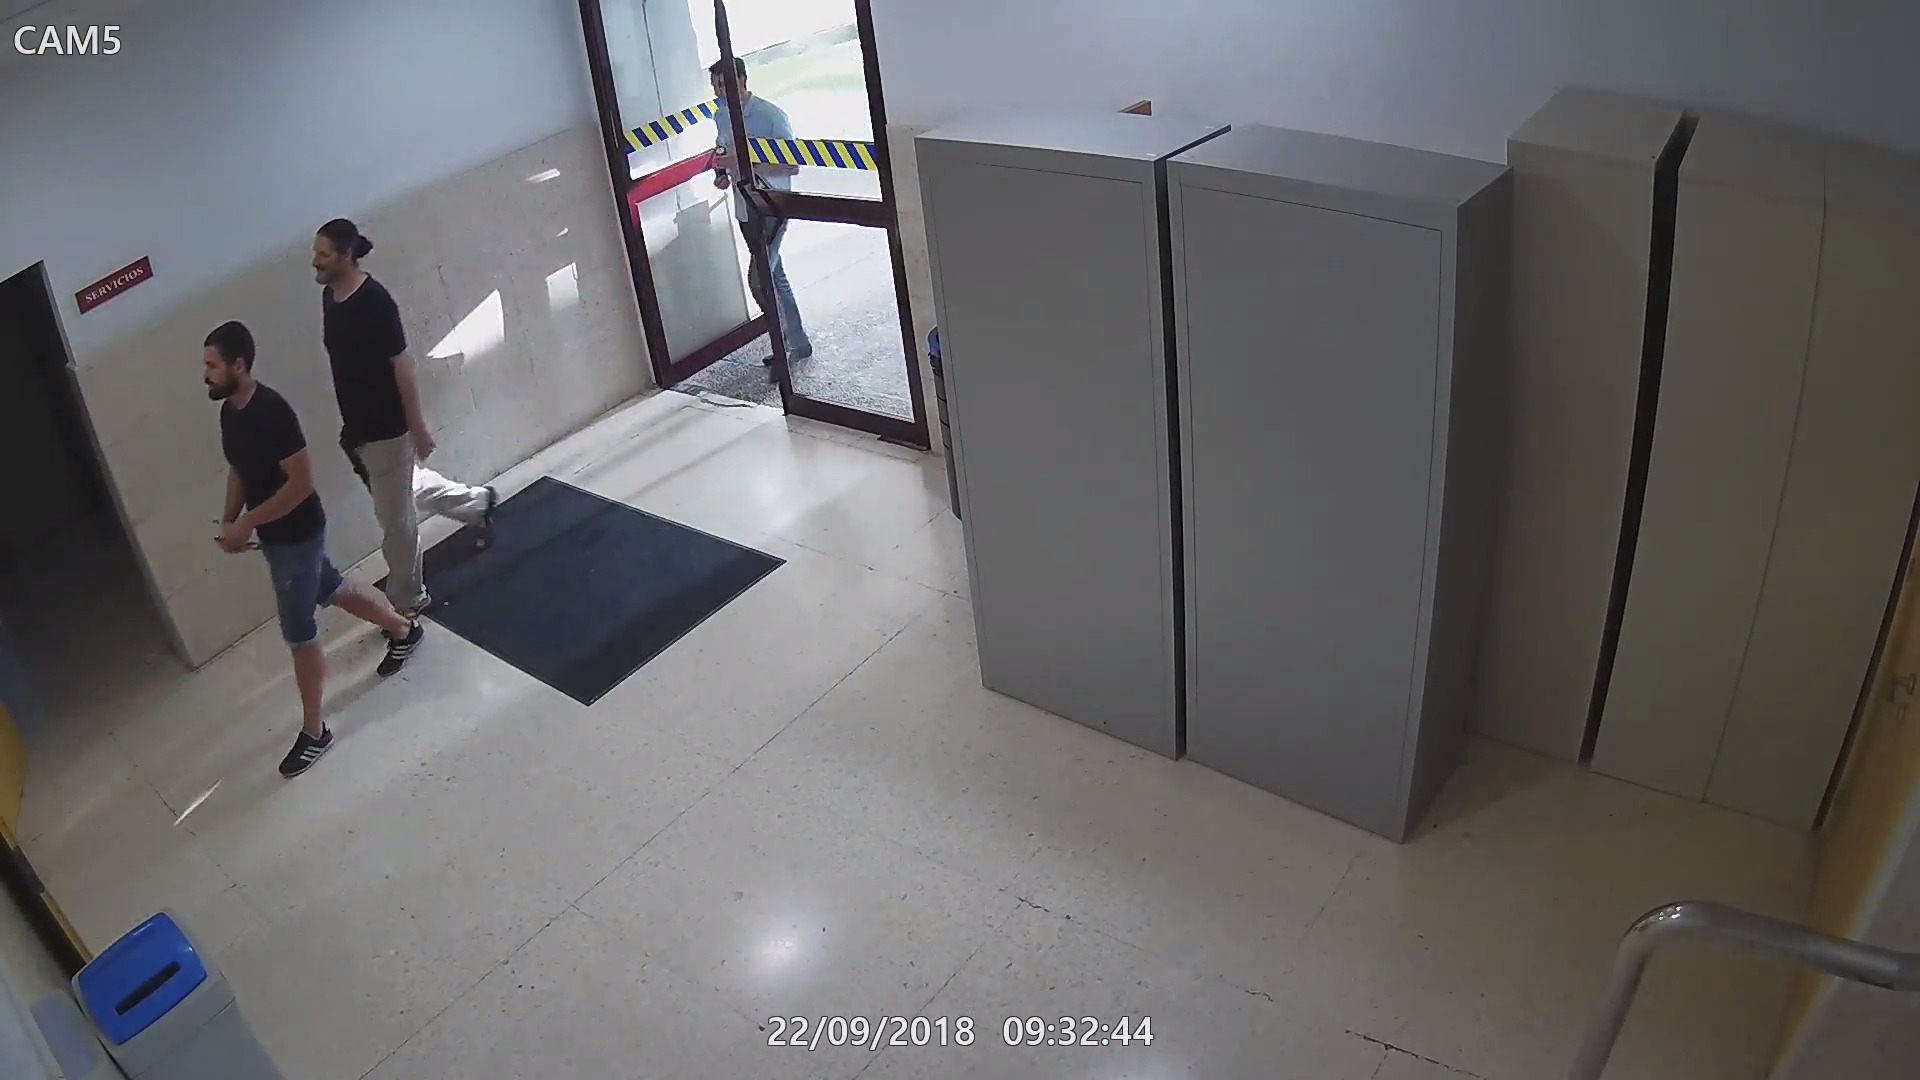Handgun: (203, 520, 266, 568)
Short_rifle: (335, 419, 371, 495)
